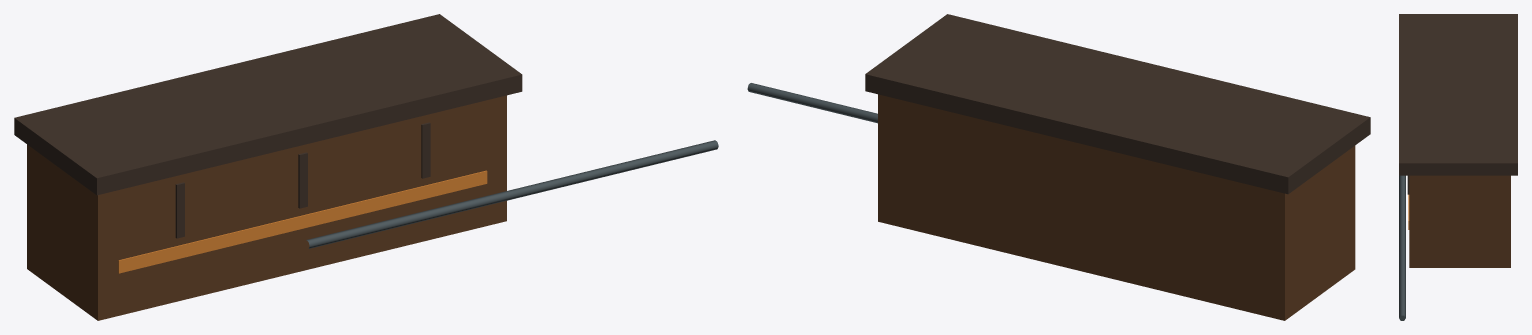
Rendered from cantina_bar_straight.glb.
3 views of the same model, side by side, from view 1: azimuth 30°, elevation 25°; view 2: azimuth 150°, elevation 25°; view 3: azimuth 270°, elevation 25° (orthographic). The views are drawn at different scales.
Visible parts, largest first — view 1: sw5e_int_cantina_bar_straight; view 2: sw5e_int_cantina_bar_straight; view 3: sw5e_int_cantina_bar_straight.
Part boxes in pixels (box(x1,y1,x2,y2)): sw5e_int_cantina_bar_straight: box(14, 14, 718, 320); sw5e_int_cantina_bar_straight: box(747, 14, 1370, 320); sw5e_int_cantina_bar_straight: box(1399, 14, 1517, 320).
Size of the model in its own units: 3.04 by 0.7 by 0.7.
